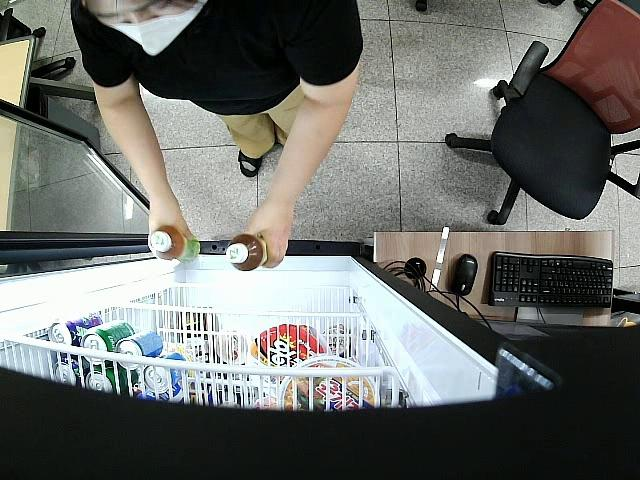00_hand: (244, 202, 295, 267), (148, 201, 198, 245)
19_17cha: (224, 234, 270, 276), (150, 227, 203, 263)
